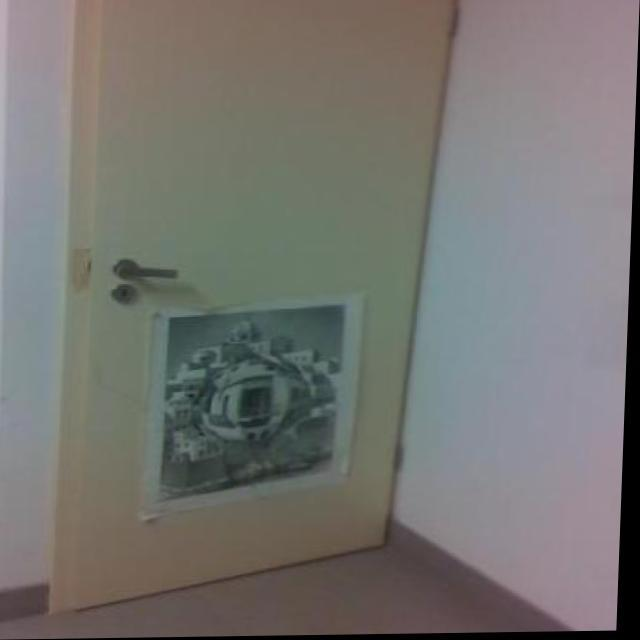door_handle: (108, 256, 192, 289)
